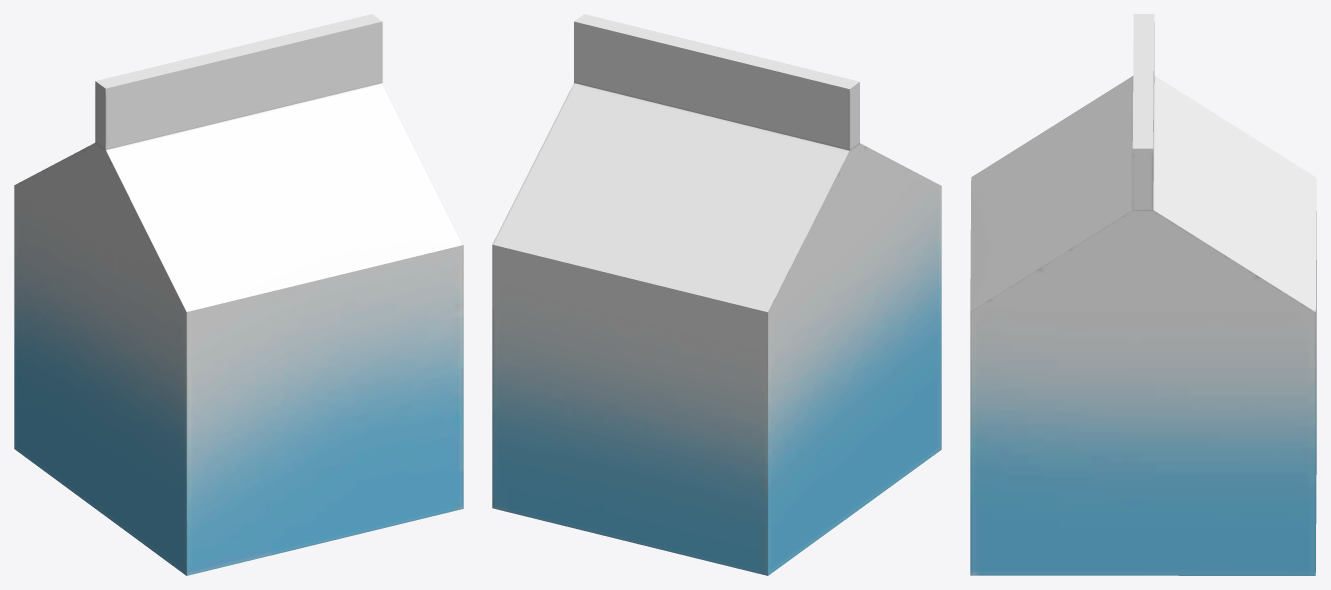
The model's file is milk.fbx.
3 views of the same model, side by side, from view 1: azimuth 30°, elevation 25°; view 2: azimuth 150°, elevation 25°; view 3: azimuth 270°, elevation 25° (orthographic).
Parts seen in each view (by area): view 1: Milk; view 2: Milk; view 3: Milk.
Part boxes in pixels (left/top/right/bottom): Milk: left=14, top=14, right=463, bottom=575; Milk: left=492, top=14, right=941, bottom=575; Milk: left=970, top=14, right=1316, bottom=575.
Size of the model in its own units: 6.34 by 9.35 by 6.87.
